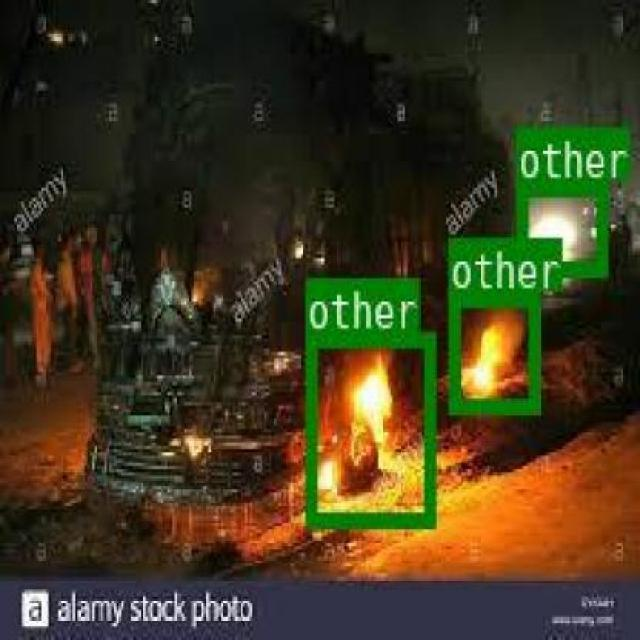Fire: (328, 330, 407, 508), (474, 316, 524, 406)
